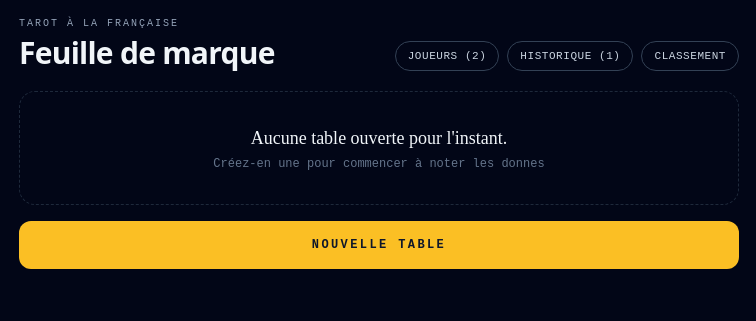
it: Écran de configuration du trombinoscope › refuse de fusionner deux joueurs qui ont déjà partagé une table
Expected: the heading "Feuille de marque" is shown, 19,35 -> 275,71
Click the link "Joueurs (2)" at [447, 56], box 395,40 -> 499,71
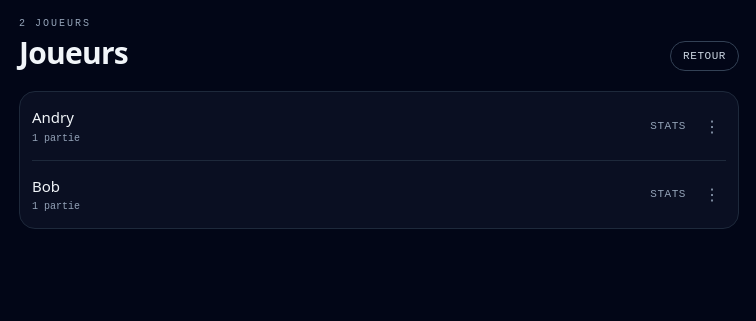
Now the heading "Joueurs" is shown, box 19,35 -> 128,71
Click the button named "Plus d'actions" at [712, 126], box 698,112 -> 726,140
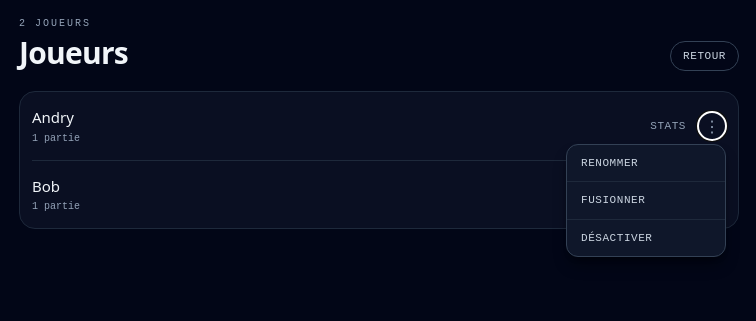
Click the button "Fusionner" at [646, 200], box 567,181 -> 725,219
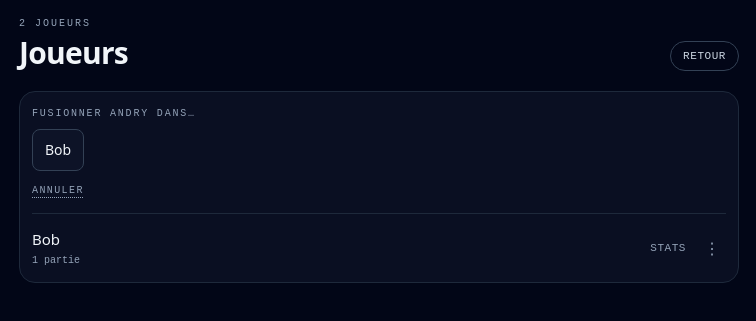
Click the button "Bob" at [58, 150], box 32,129 -> 84,171
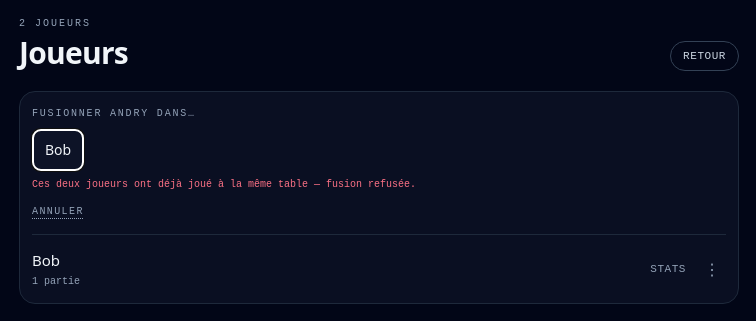
Now the text "fusion refusée" is shown, box 32,179 -> 416,190
Click the button "Annuler" at [58, 212], box 32,204 -> 84,219
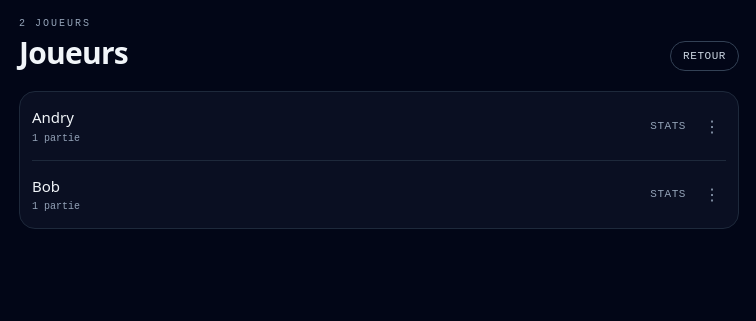
Now the elements with test id "roster-nom" read "Andry", "Bob", in this order, box 32,106 -> 80,128; 32,176 -> 60,196
